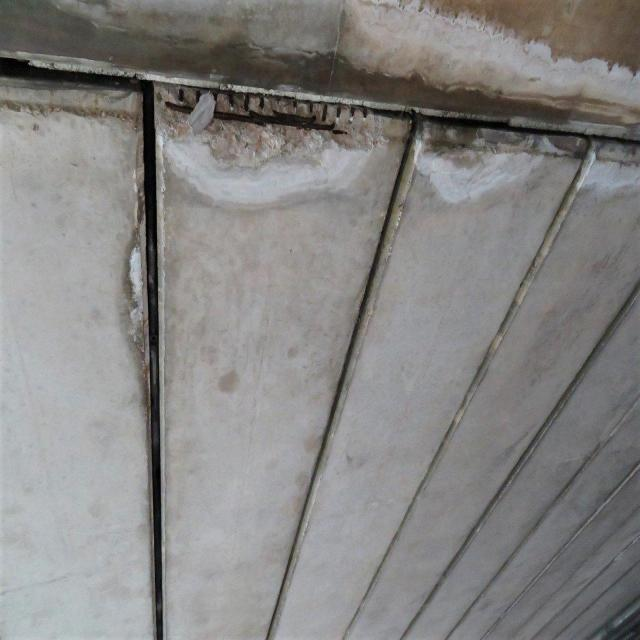Rebar: (156, 84, 388, 174)
